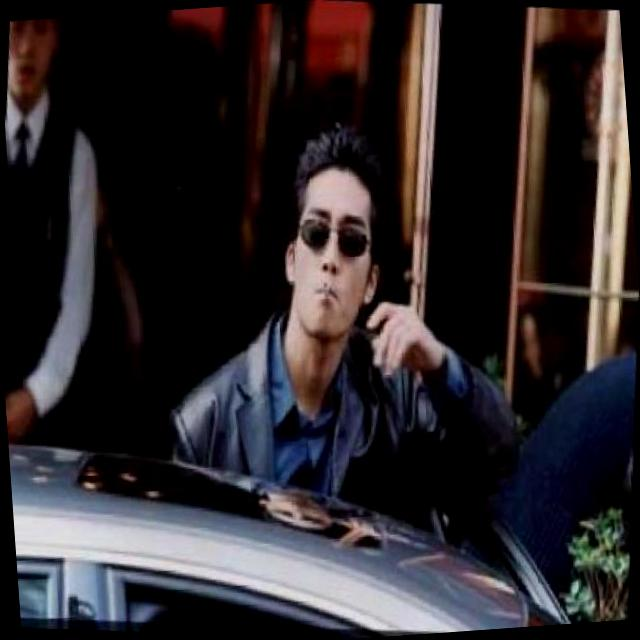smoke: (324, 281, 334, 300)
